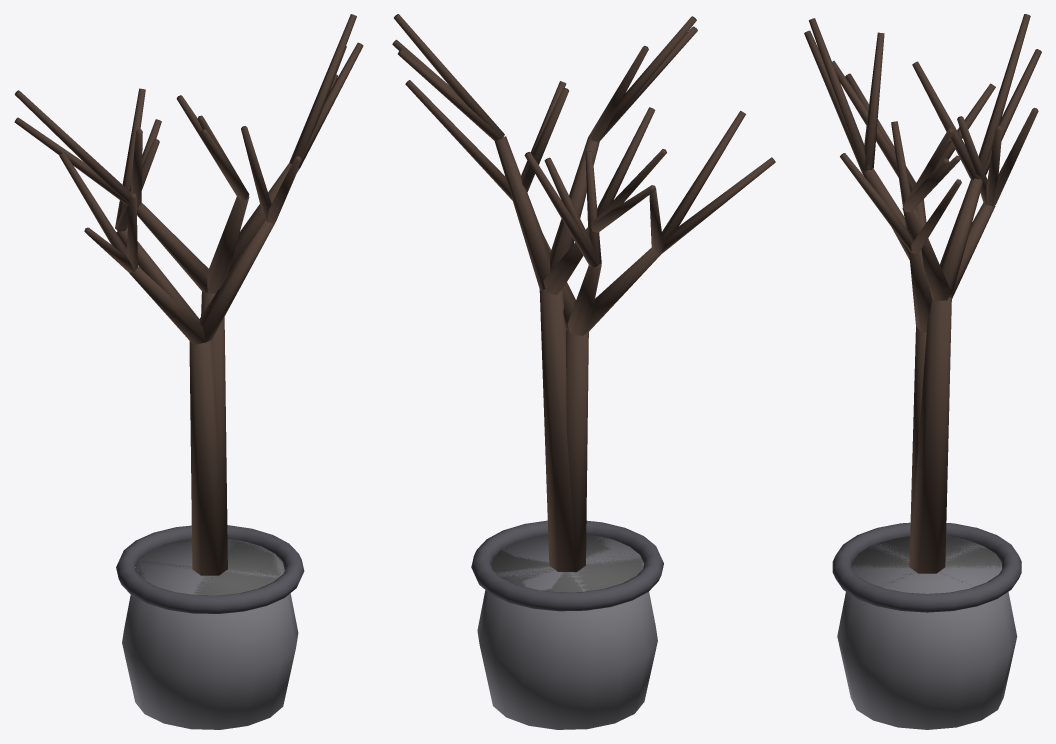
Rendered from withered_plant_dead_tree_a.glb.
3 views of the same model, side by side, from view 1: azimuth 30°, elevation 25°; view 2: azimuth 150°, elevation 25°; view 3: azimuth 270°, elevation 25° (orthographic). The views are drawn at different scales.
Visible parts, largest first — view 1: GD_withered_plant_dead_tree_a__m2, GD_withered_plant_dead_tree_a__m0, GD_withered_plant_dead_tree_a__m1, GD_withered_plant_dead_tree_a__m3; view 2: GD_withered_plant_dead_tree_a__m2, GD_withered_plant_dead_tree_a__m0, GD_withered_plant_dead_tree_a__m1, GD_withered_plant_dead_tree_a__m3; view 3: GD_withered_plant_dead_tree_a__m2, GD_withered_plant_dead_tree_a__m0, GD_withered_plant_dead_tree_a__m1, GD_withered_plant_dead_tree_a__m3.
Boxes of the visible parts, x1,y1,x2,y2 form: GD_withered_plant_dead_tree_a__m2: (14,14,363,575); GD_withered_plant_dead_tree_a__m0: (122,539,298,729); GD_withered_plant_dead_tree_a__m1: (116,525,304,613); GD_withered_plant_dead_tree_a__m3: (136,539,283,595); GD_withered_plant_dead_tree_a__m2: (392,14,775,572); GD_withered_plant_dead_tree_a__m0: (477,534,657,729); GD_withered_plant_dead_tree_a__m1: (471,520,663,611); GD_withered_plant_dead_tree_a__m3: (491,534,643,592); GD_withered_plant_dead_tree_a__m2: (804,14,1041,573); GD_withered_plant_dead_tree_a__m0: (837,536,1017,729); GD_withered_plant_dead_tree_a__m1: (832,522,1021,612); GD_withered_plant_dead_tree_a__m3: (852,536,1001,586).
Bounding box in the file's own units: 0.8459 × 1.59 × 0.5287.
